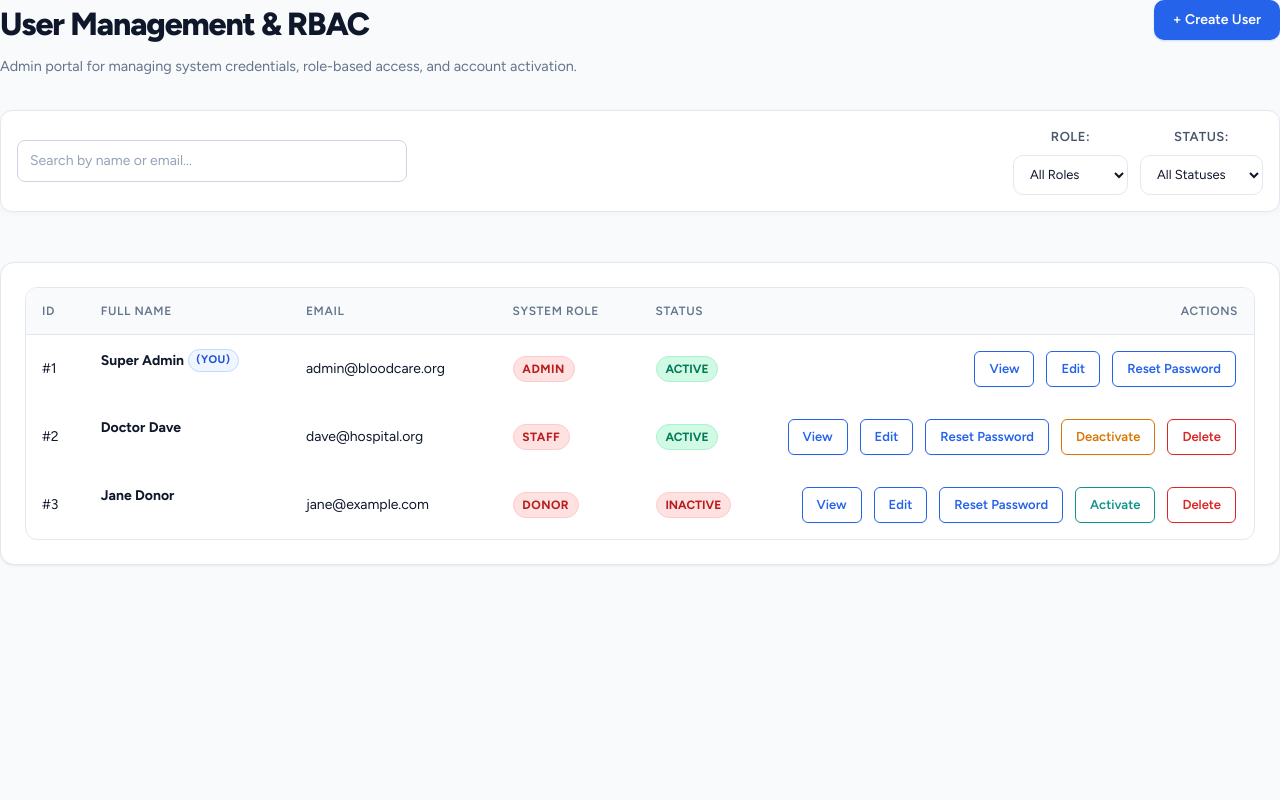
Scenario: Users Page Component › opens and submits Edit User form modal
Step 1. Click the button with test id "btn-edit-user-2" → (886, 437), box top-left (860, 419), bottom-right (913, 455)
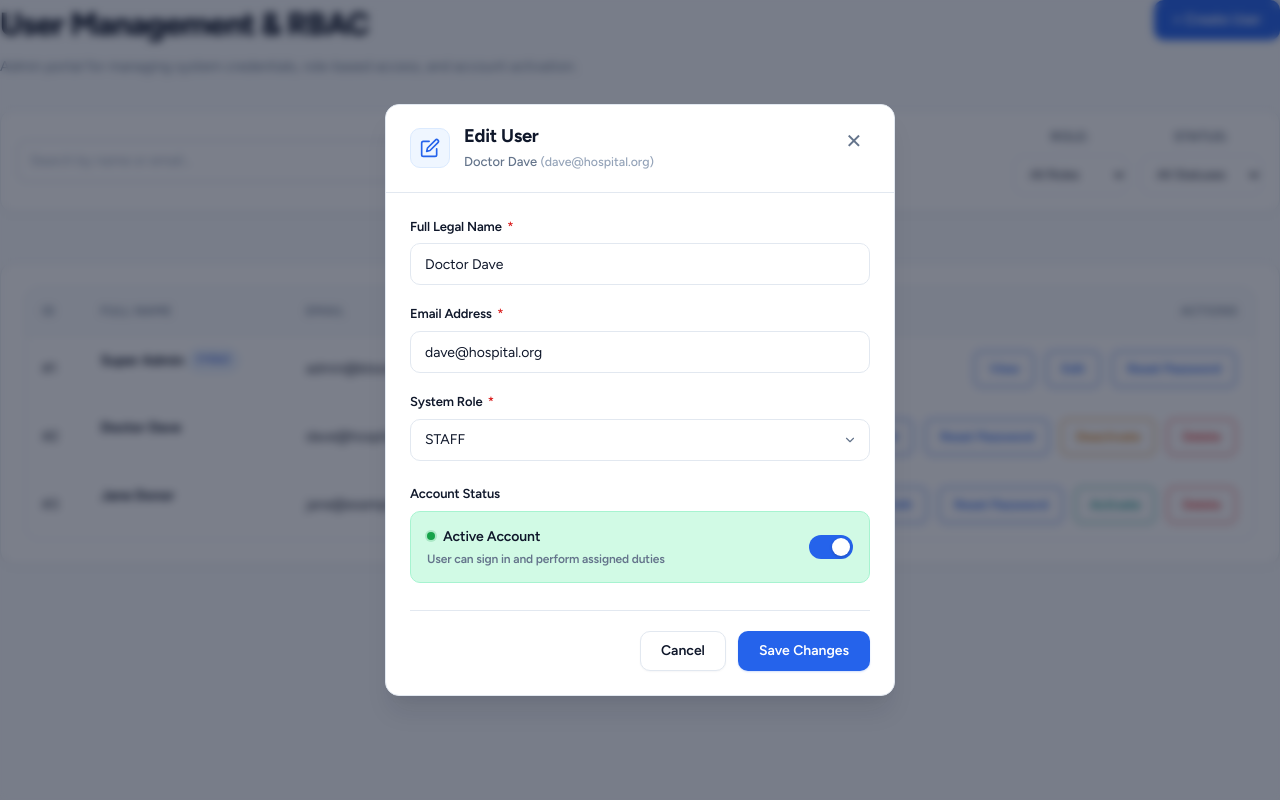
Expected: the dialog with test id "user-form-modal" is shown, top-left (385, 104), bottom-right (895, 696)
Expected: the field with test id "input-user-fullname" holds "Doctor Dave"
Step 2. Replace the text in the field with test id "input-user-fullname" with "Dr. David Miller" → (640, 264), box top-left (410, 243), bottom-right (870, 285)
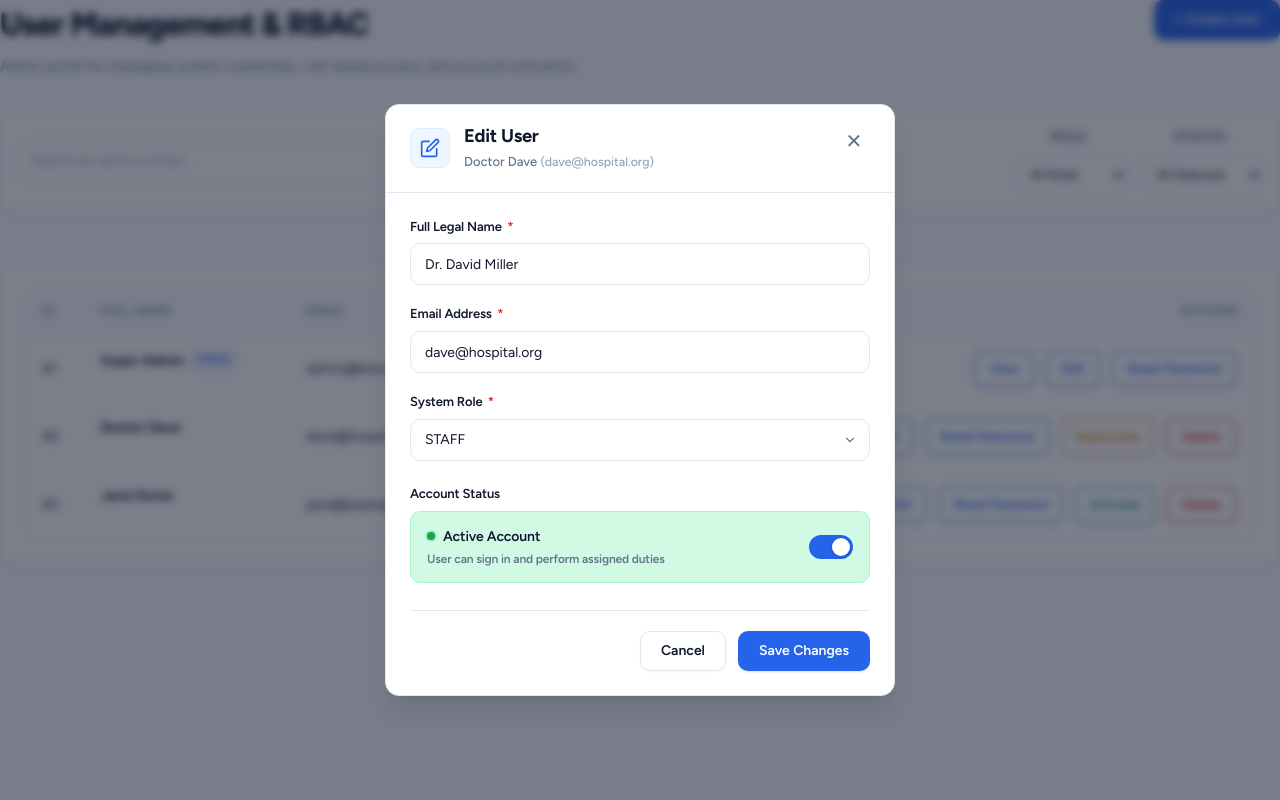
Step 3. Click the button with test id "btn-submit-user" → (804, 651), box top-left (738, 631), bottom-right (870, 671)
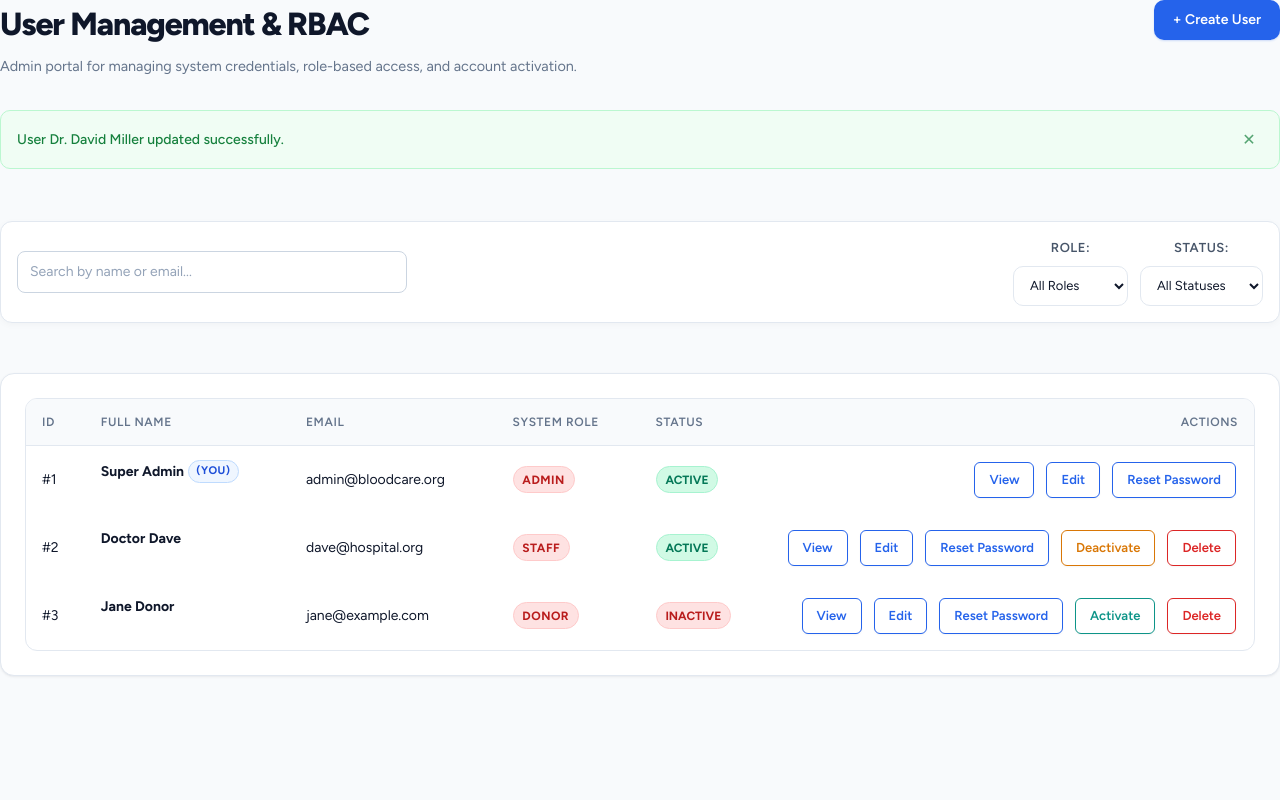
Expected: the element with test id "feedback-banner" shows "User Dr. David Miller updated successfully", top-left (17, 131), bottom-right (284, 148)
